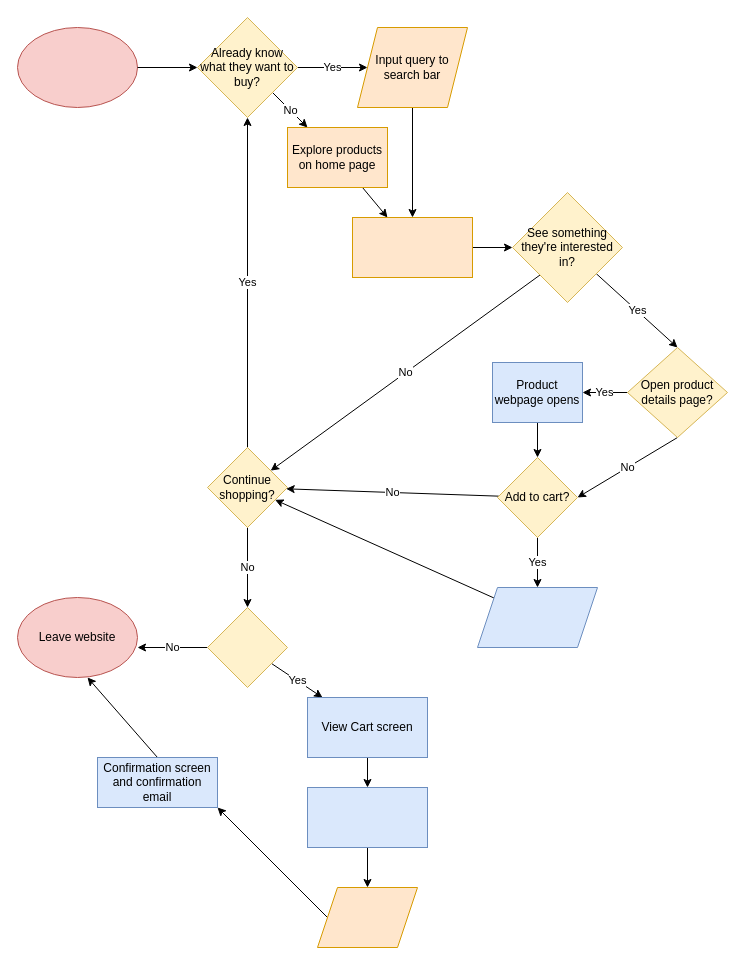
Some shapes in this 745 by 965 pixel diagram are drawn without their labels. Here are the shapes that lost their labels. From the top down, the centre of each, then its label:
At point (77, 67): "User enters the website".
At point (412, 247): "Begin looking over products".
At point (537, 617): "Added to cart confirmation".
At point (247, 647): "Checkout?".
At point (367, 817): "Payment screen opens".
At point (367, 917): "Enter payment details".
